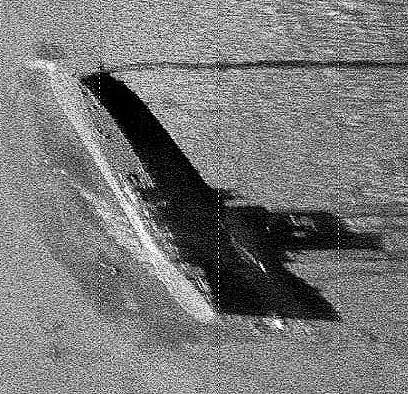ship: (46, 62, 221, 328)
